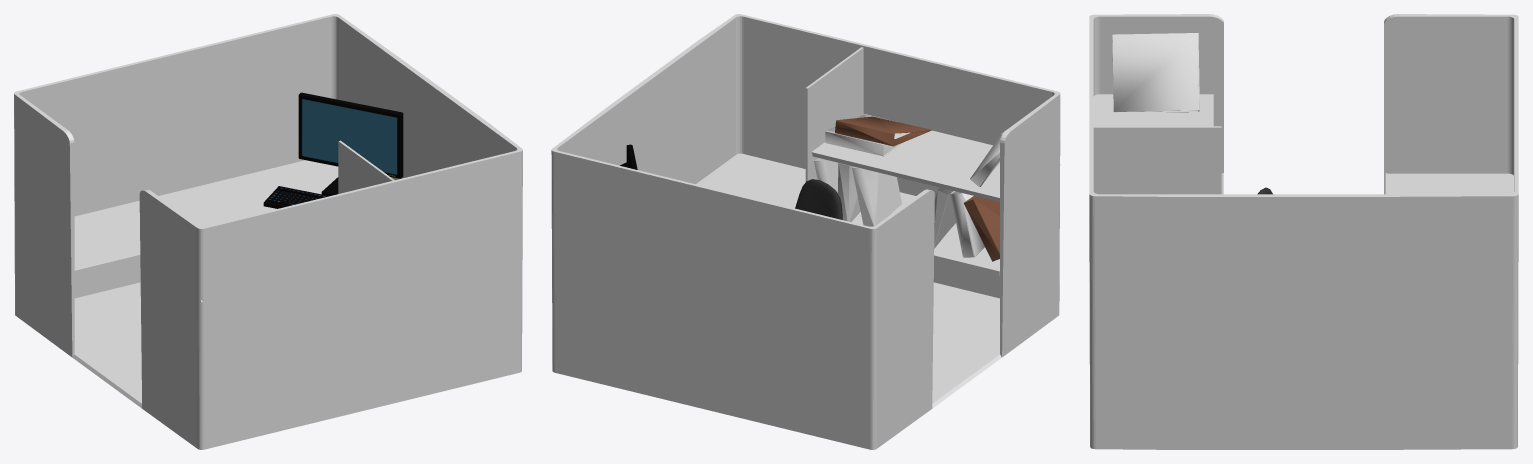
The model's file is Depression Cube.fbx.
3 views of the same model, side by side, from view 1: azimuth 30°, elevation 25°; view 2: azimuth 150°, elevation 25°; view 3: azimuth 270°, elevation 25° (orthographic). The views are drawn at different scales.
Parts seen in each view (by area): view 1: DepressionCube_LOD0; view 2: DepressionCube_LOD0; view 3: DepressionCube_LOD0.
Boxes of the visible parts, x1,y1,x2,y2 form: DepressionCube_LOD0: (14,14,522,449); DepressionCube_LOD0: (551,14,1060,449); DepressionCube_LOD0: (1089,14,1518,449).
Size of what is drawn, in the model's own units: 251 by 163 by 249.
11 materials, 2 textured.
